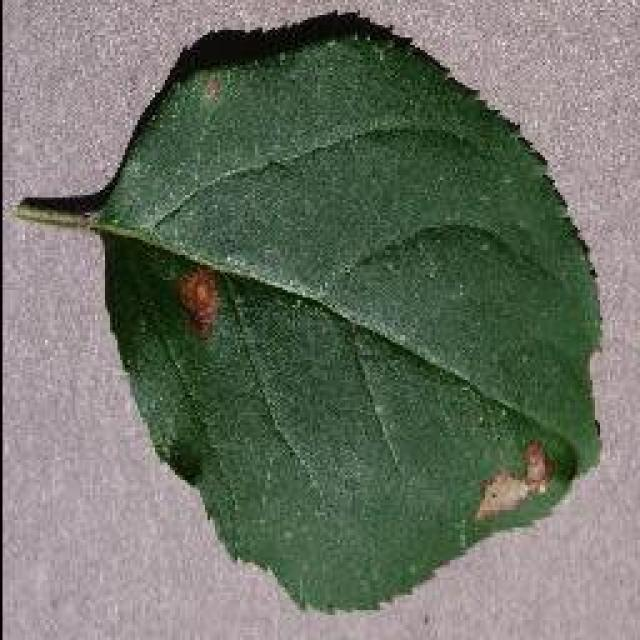apple black rot: (15, 7, 605, 615)
